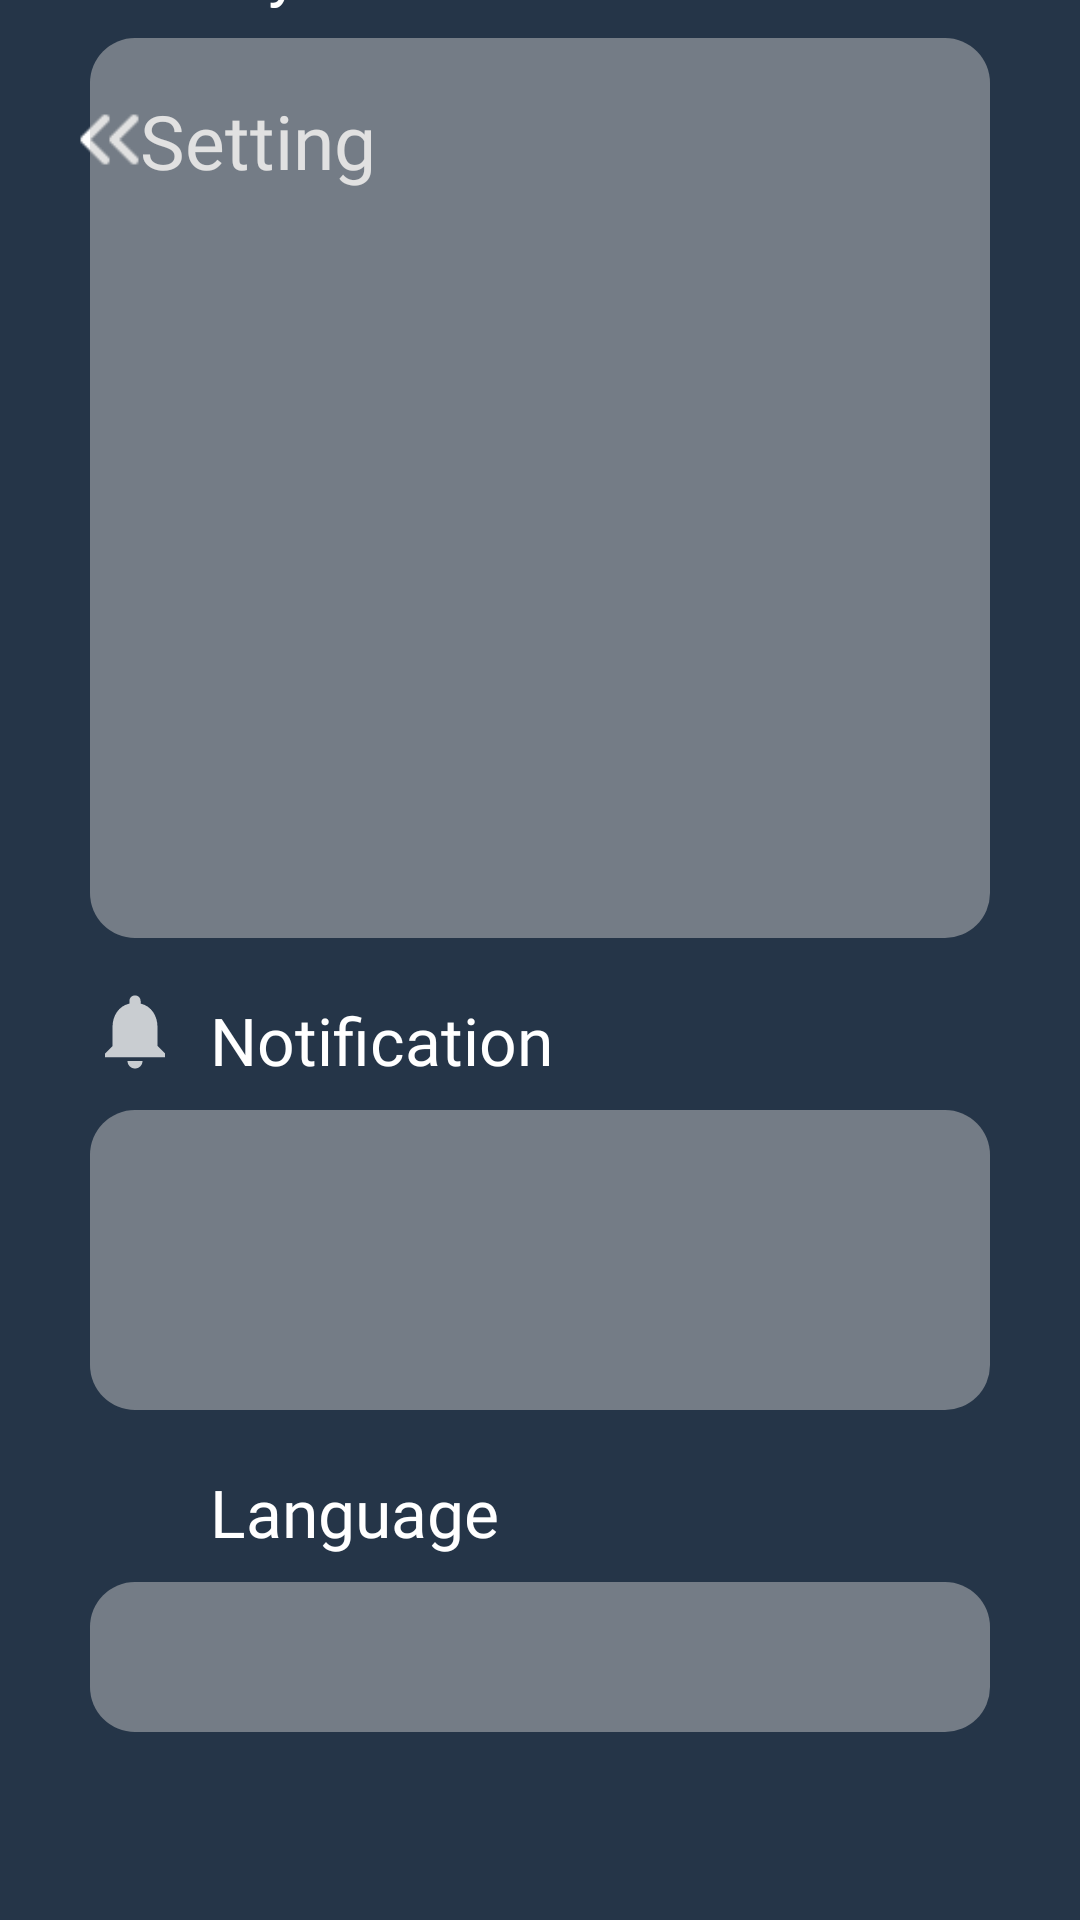

Icons on this 1080x1920 Android screen, each with its box as (x1, y1, x2, y2):
ring: (105, 995, 165, 1069)
